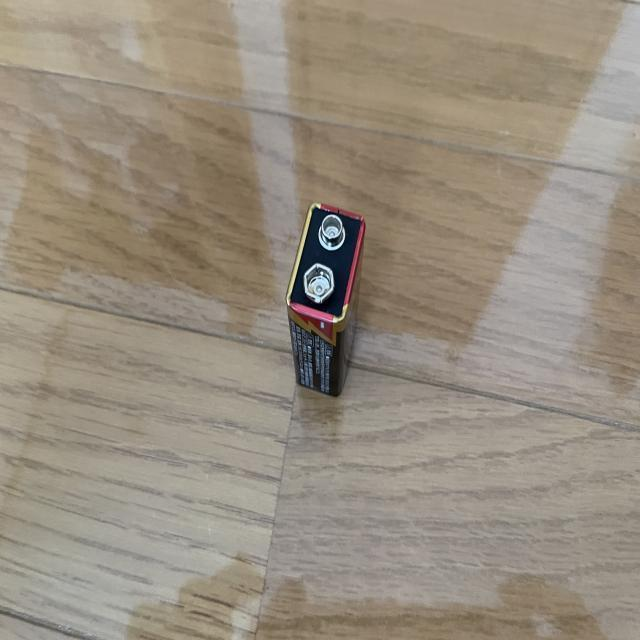9V: (285, 201, 365, 396)
